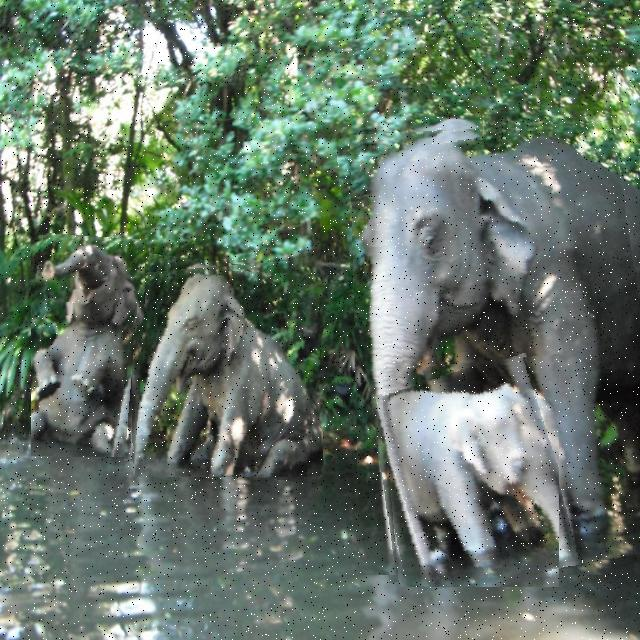elephant: (350, 120, 640, 575), (130, 258, 323, 477), (380, 354, 559, 587), (31, 235, 143, 457)
